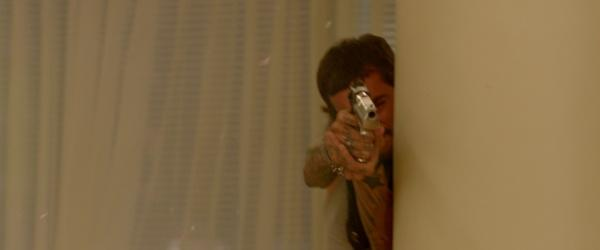Gun: (348, 82, 379, 162)
